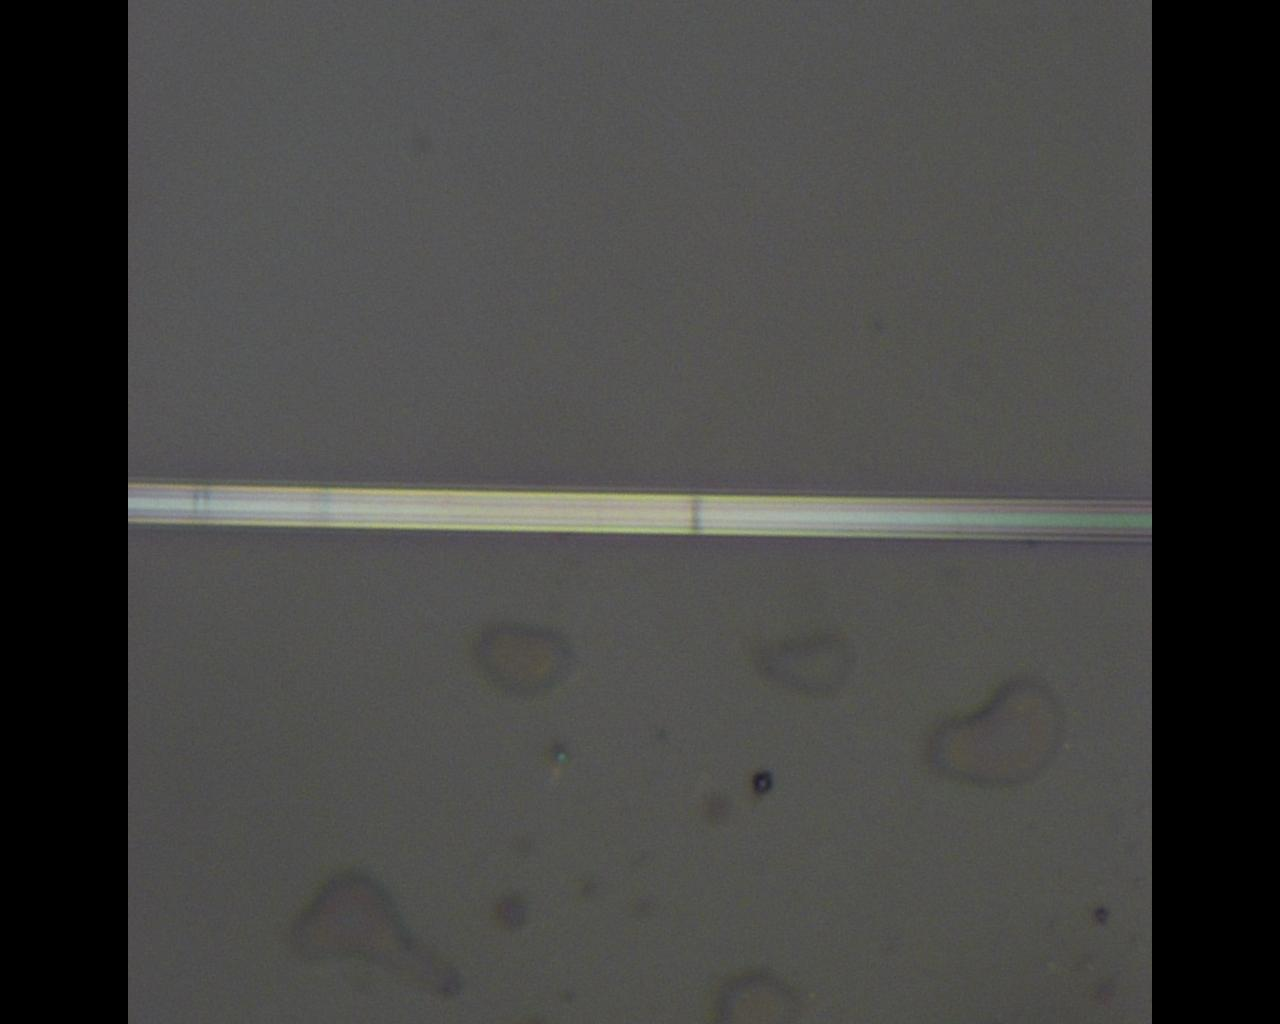fiber: (127, 478, 1151, 538)
